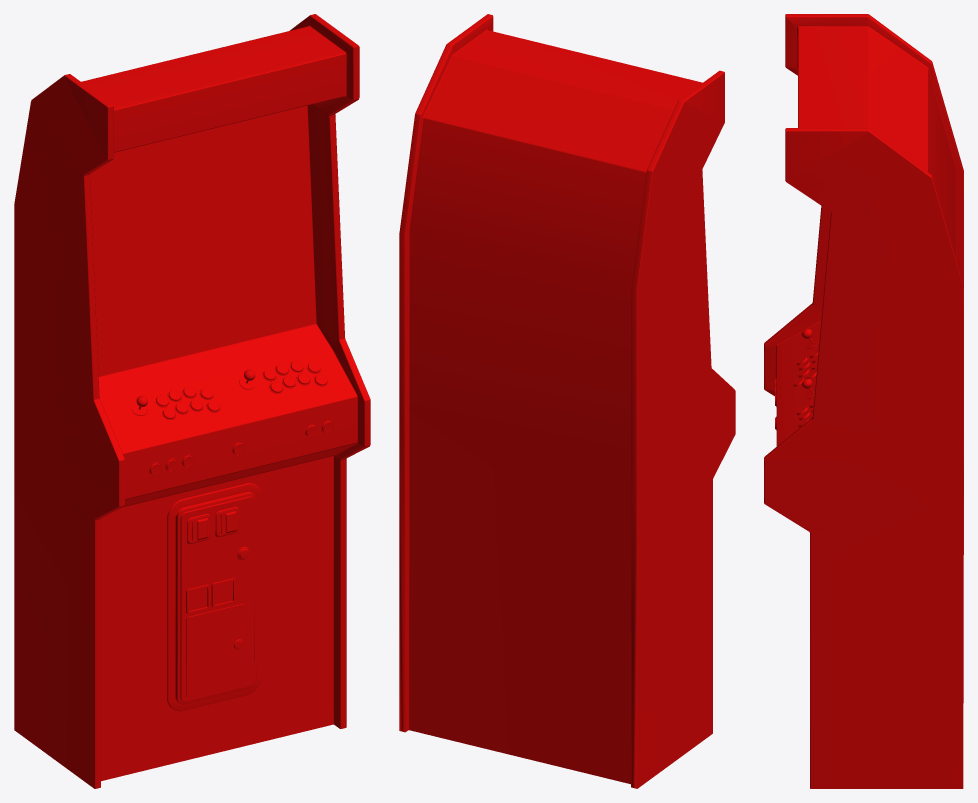
The model's file is dinorun.fbx.
3 renders of one model, left to right at view 1: azimuth 30°, elevation 25°; view 2: azimuth 150°, elevation 25°; view 3: azimuth 270°, elevation 25°, orthographic. The views are drawn at different scales.
Parts seen in each view (by area): view 1: polySurface69; view 2: polySurface69; view 3: polySurface69.
Boxes of the visible parts, bbox=[...] form: polySurface69: bbox=[14, 14, 370, 788]; polySurface69: bbox=[399, 14, 735, 788]; polySurface69: bbox=[764, 14, 963, 788].
Bounding box in the file's own units: 76.12 × 199 × 54.89.
